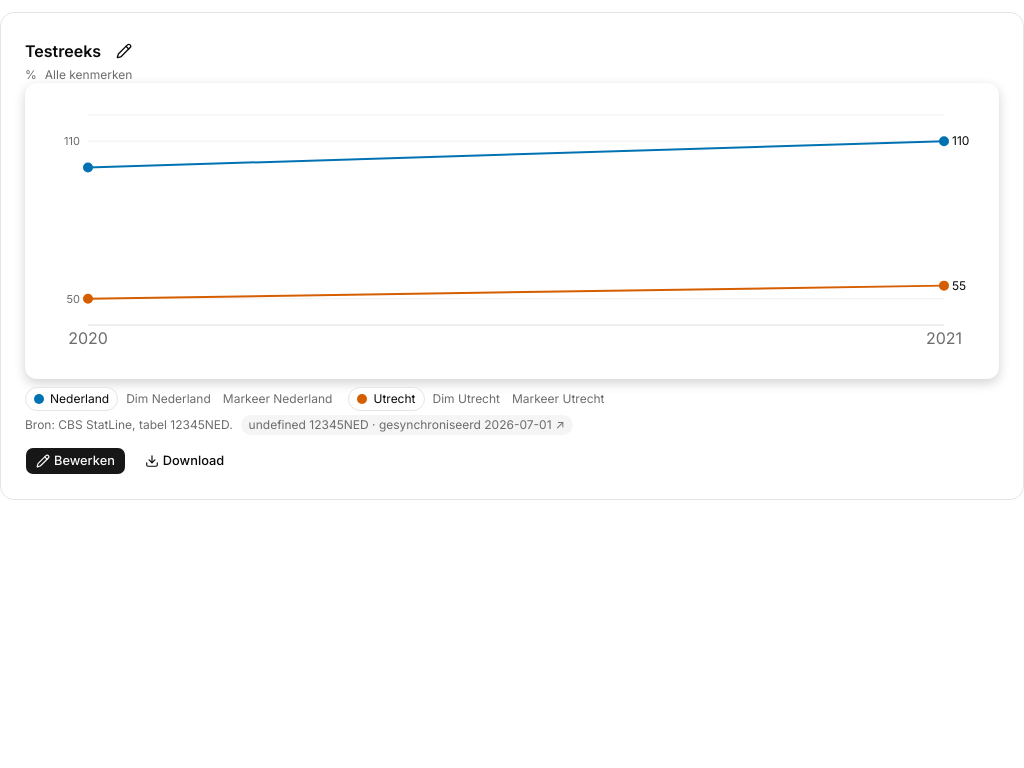
Scenario: in-place title › an empty or unchanged title clears the override (no history entry for a no-op)
The width and height of the screenshot is (1024, 768).
Click the button named "Titel bewerken".
click(124, 51)  # box top-left (105, 37), bottom-right (143, 65)
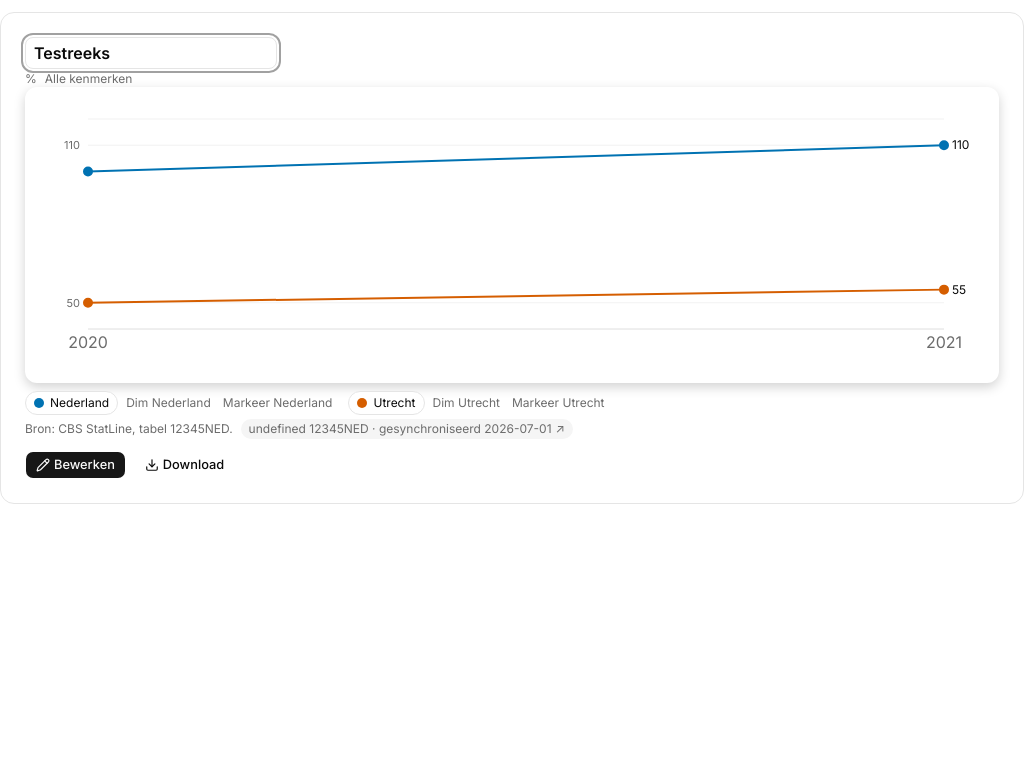
Press Enter in the field with placeholder "Eigen titel", box top-left (25, 37), bottom-right (277, 69)
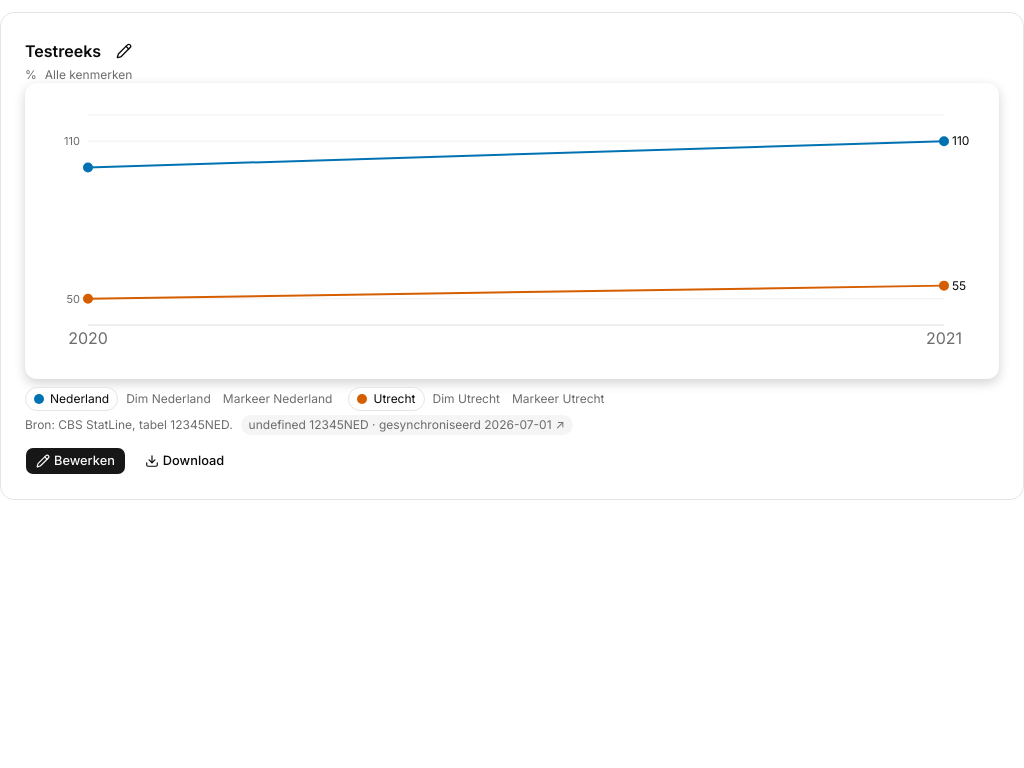
Click the button "Bewerken".
click(75, 461)  # box top-left (25, 447), bottom-right (126, 475)
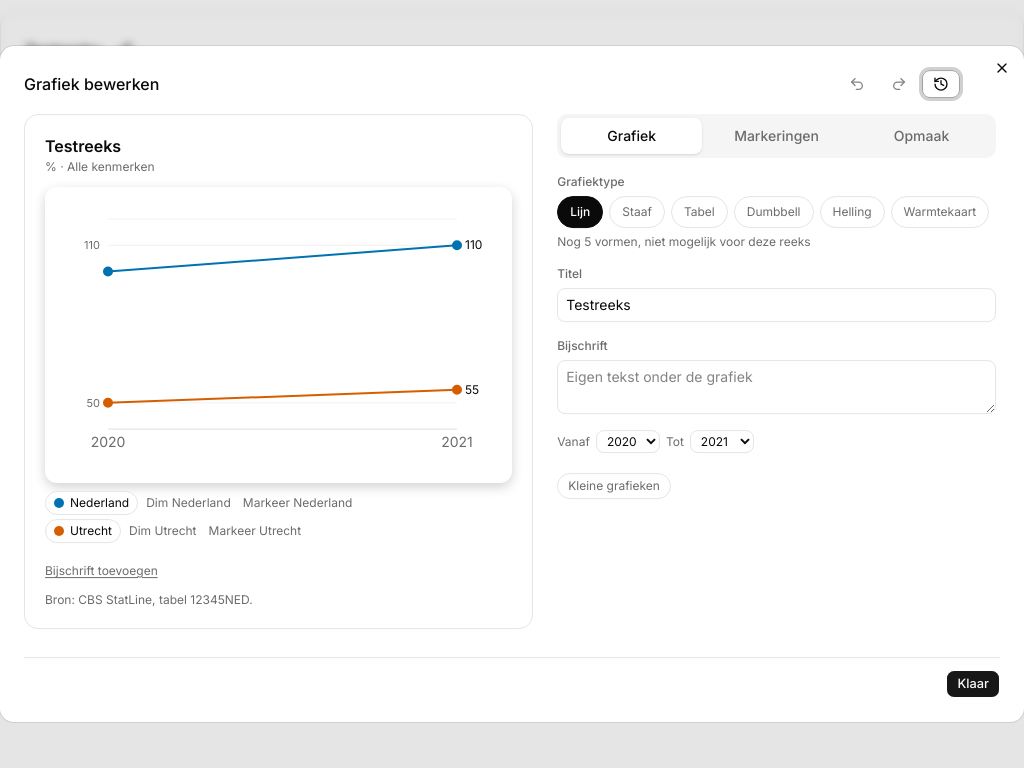
Now the button named "Ongedaan maken" is disabled, box top-left (838, 70), bottom-right (876, 98)
